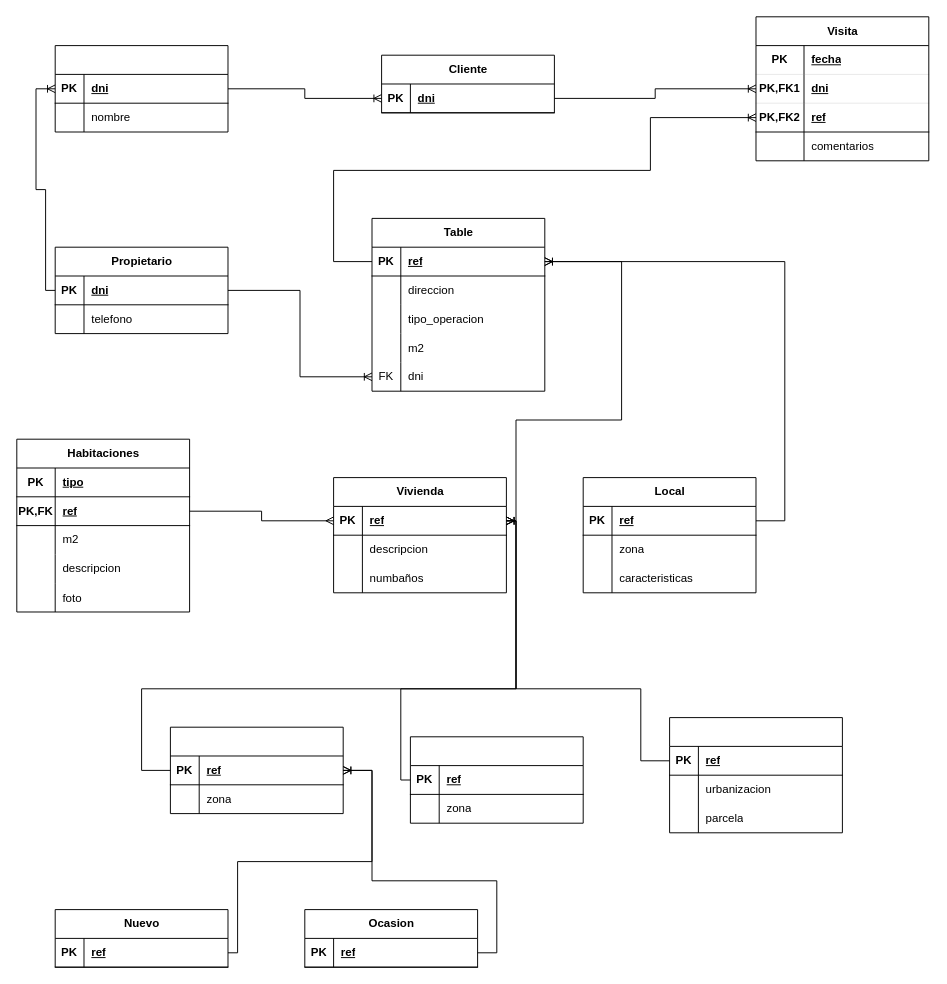
Image size: 947x984. Some labels were removed from this diagram. Here are the shapes that lost their labels. From the top down, the box of each, then its label:
(54, 45, 228, 132): Persona
(169, 726, 343, 814): Piso
(409, 736, 583, 823): Casa
(669, 717, 842, 833): Chalet
